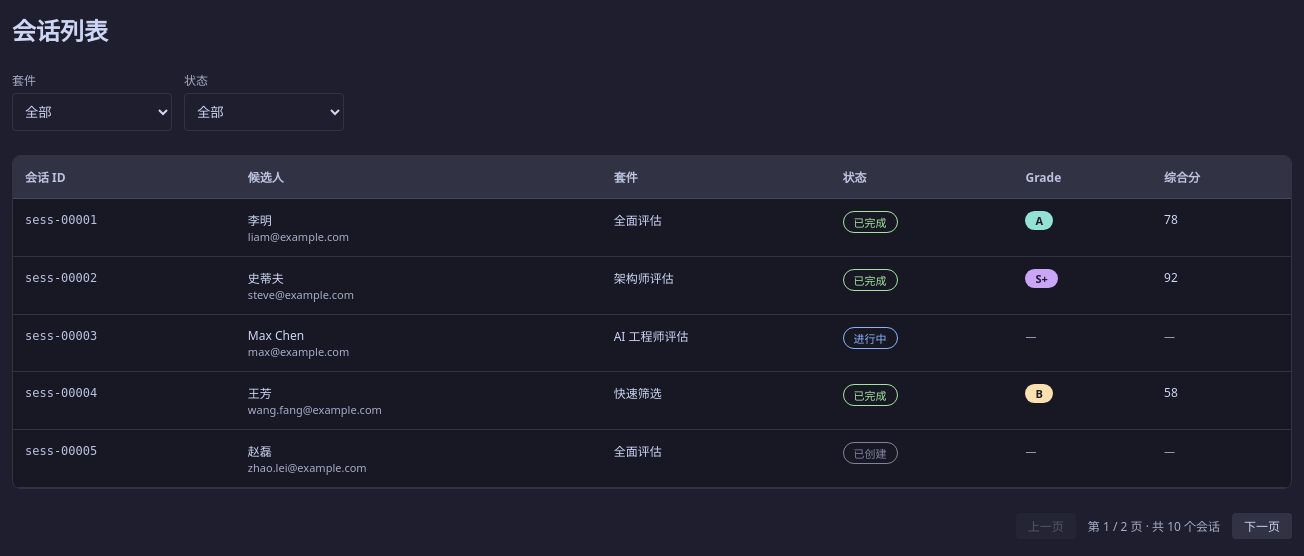
Test case: <AdminSessionsListPage /> › filters by status
Select "已完成" in the dropdown with test id "admin-sessions-filter-status" at (264, 112), box [184,93,344,131]
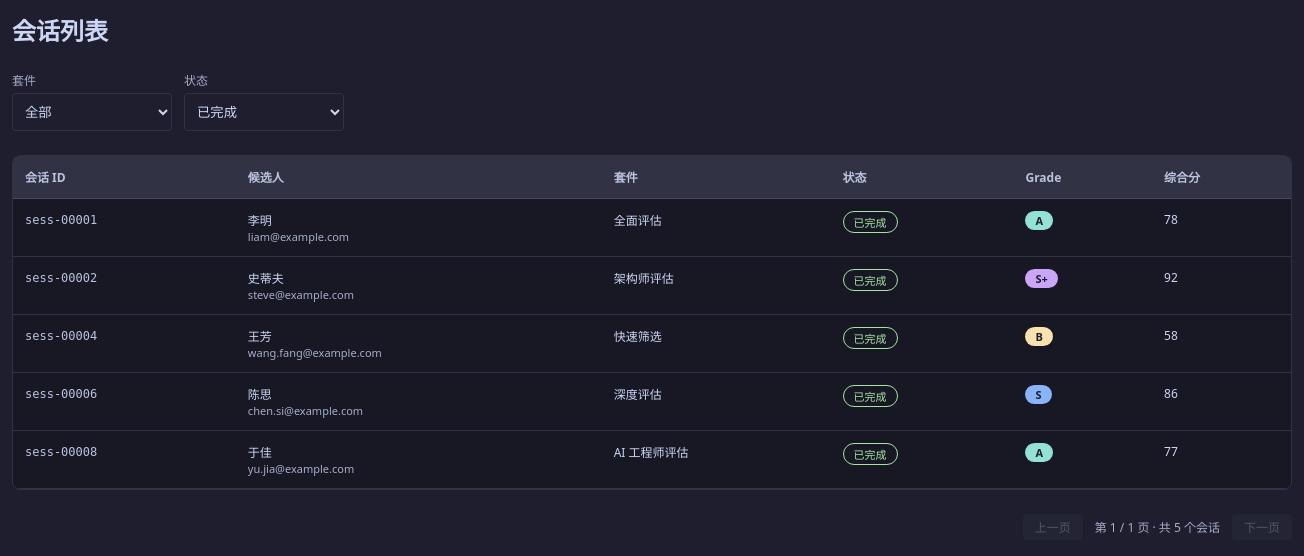
Expected: the row with test id "admin-sessions-row-sess-00001" is shown, [13,198,1291,256]
Expected: the row with test id "admin-sessions-row-sess-00003" is gone
